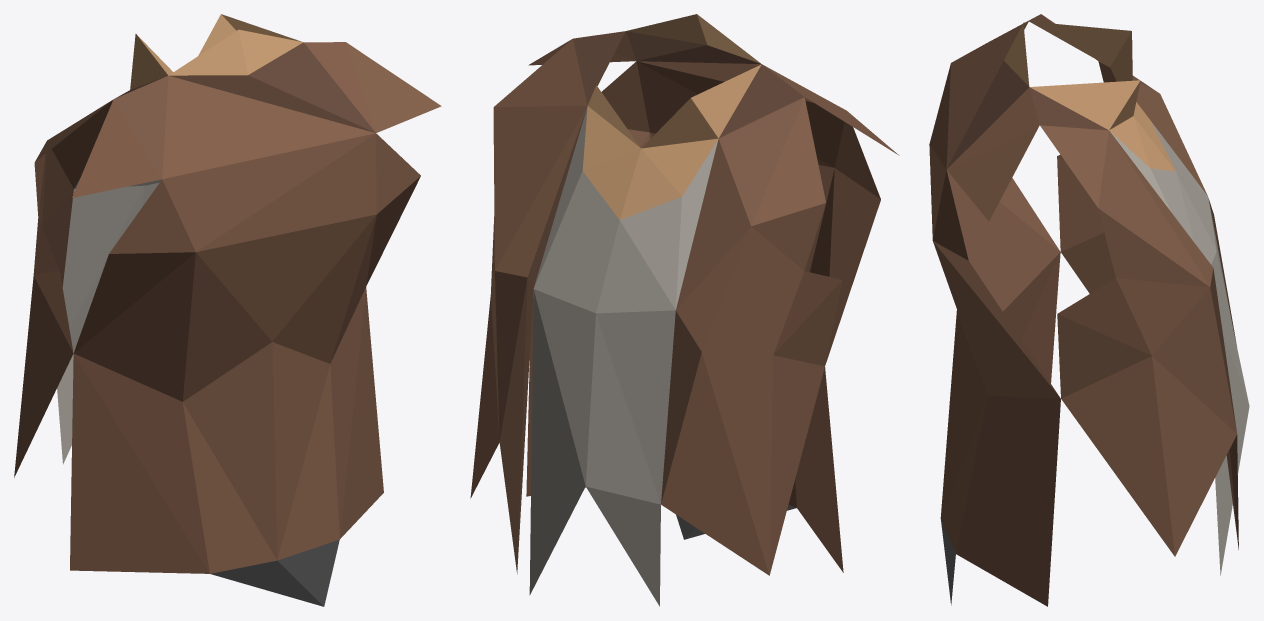
Rendered from Torso.obj.
3 renders of one model, left to right at view 1: azimuth 30°, elevation 25°; view 2: azimuth 150°, elevation 25°; view 3: azimuth 270°, elevation 25°, orthographic.
Size of the model in its own units: 0.507 by 0.7355 by 0.3813.
Materials: 1 (1 with a texture image).
